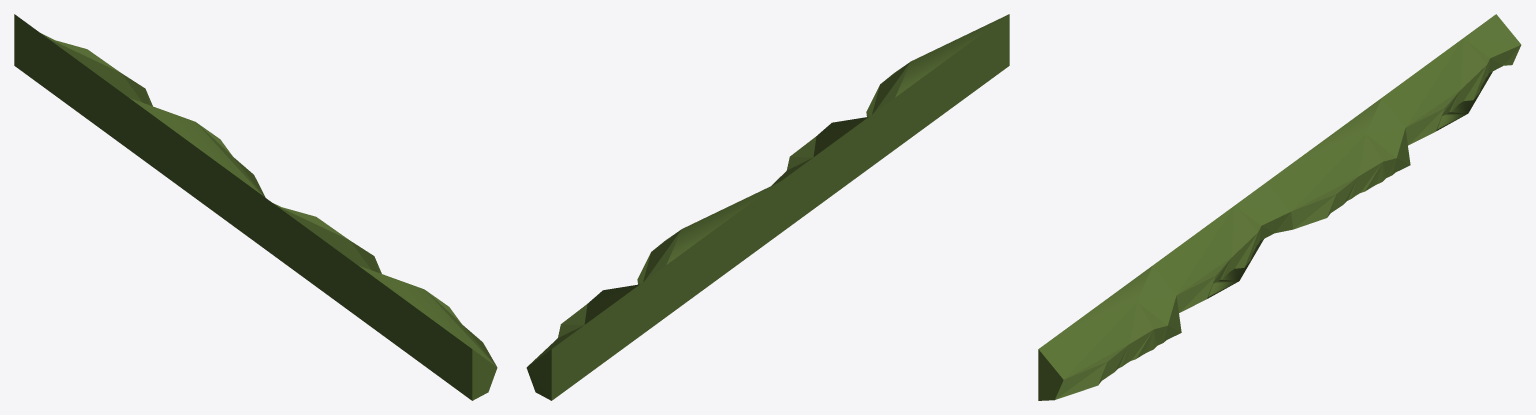
File: LightVegetationEdgeLargeStraight1.fbx
3 views of the same model, side by side, from view 1: azimuth 30°, elevation 25°; view 2: azimuth 150°, elevation 25°; view 3: azimuth 330°, elevation 25° (orthographic).
Parts seen in each view (by area): view 1: LightVegetationEdgeLargeStraight1; view 2: LightVegetationEdgeLargeStraight1; view 3: LightVegetationEdgeLargeStraight1.
Boxes of the visible parts, box(x1,y1,x2,y2) form: LightVegetationEdgeLargeStraight1: box(14, 14, 497, 400); LightVegetationEdgeLargeStraight1: box(526, 14, 1009, 400); LightVegetationEdgeLargeStraight1: box(1038, 14, 1521, 400).
Size of the model in its own units: 198 by 200 by 3200.
